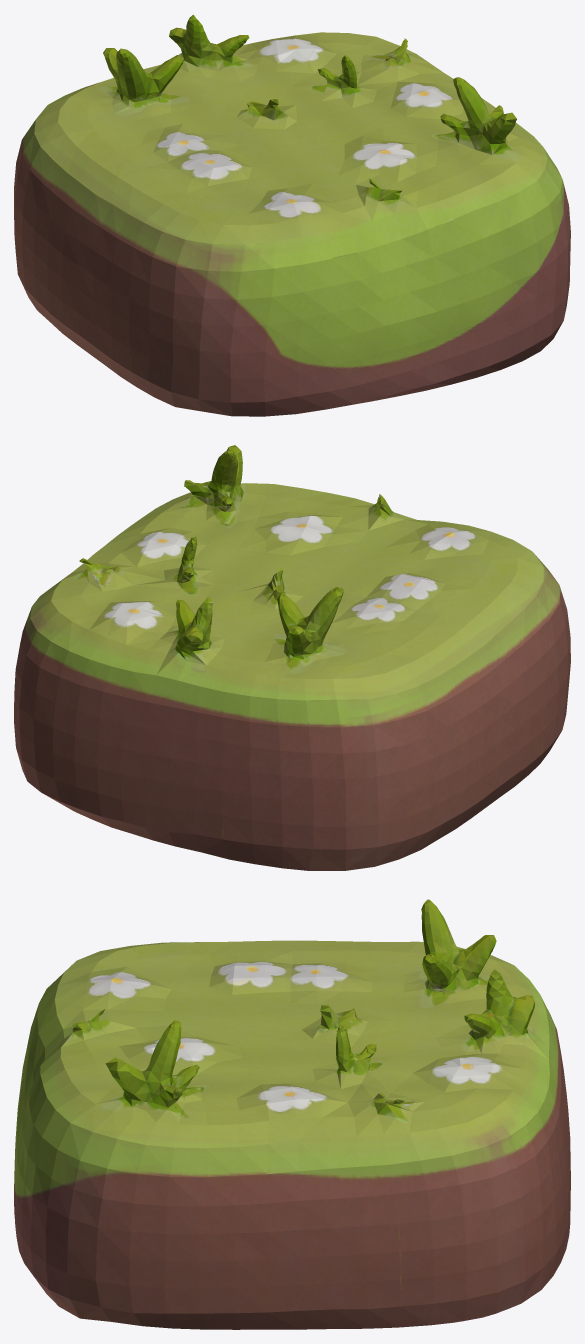
The model's file is Stage_03_Ground_Grass_000.fbx.
3 views of the same model, one above another, from view 1: azimuth 30°, elevation 25°; view 2: azimuth 150°, elevation 25°; view 3: azimuth 270°, elevation 25° (orthographic). The views are drawn at different scales.
Parts seen in each view (by area): view 1: Stage_03_Ground_Grass_000; view 2: Stage_03_Ground_Grass_000; view 3: Stage_03_Ground_Grass_000.
Boxes of the visible parts, bbox=[...] form: Stage_03_Ground_Grass_000: bbox=[14, 14, 570, 416]; Stage_03_Ground_Grass_000: bbox=[14, 445, 570, 870]; Stage_03_Ground_Grass_000: bbox=[14, 899, 570, 1329].
Size of the model in its own units: 96.8 by 53.19 by 99.59.
